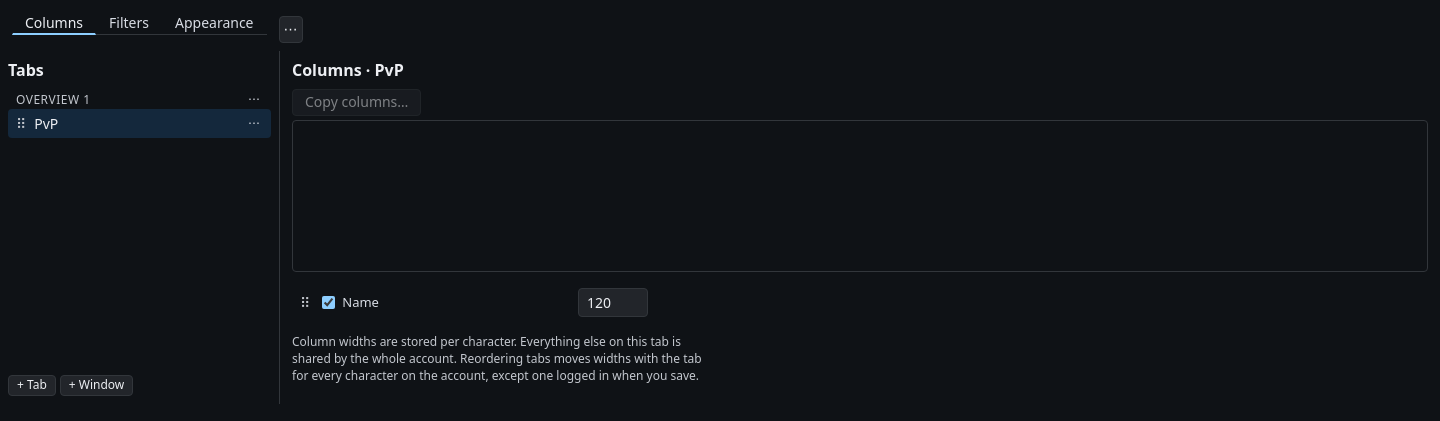
Scenario: the view menu › set-up is present but disabled once the account has windows
Click the button named "Overview actions" at (290, 30), box [278,16,302,43]
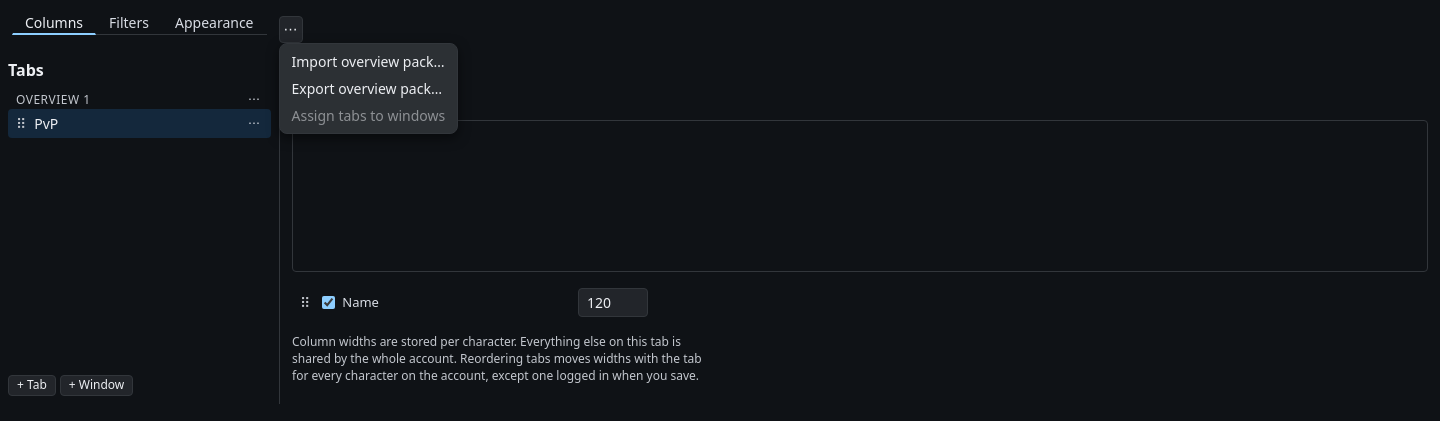
Expected: the menu item "Assign tabs to windows" is disabled, [284,102,453,129]
